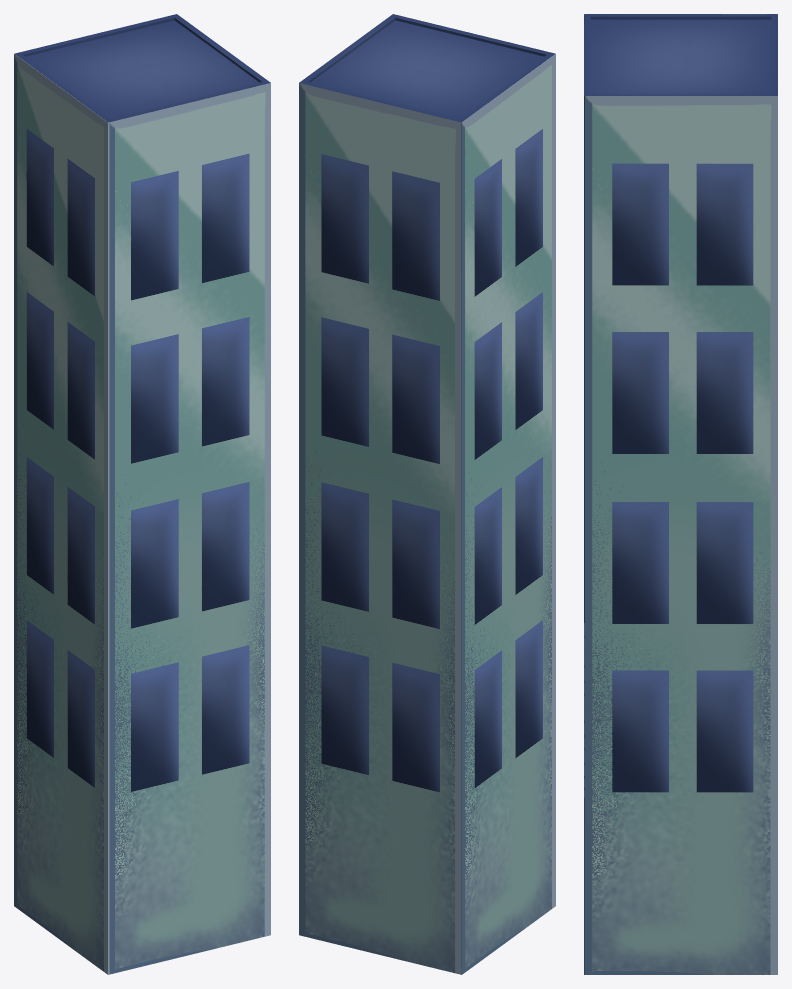
Rendered from 10x10Platform.fbx.
3 views of the same model, side by side, from view 1: azimuth 30°, elevation 25°; view 2: azimuth 150°, elevation 25°; view 3: azimuth 270°, elevation 25° (orthographic). The views are drawn at different scales.
Visible parts, largest first — view 1: 10x10 Building; view 2: 10x10 Building; view 3: 10x10 Building.
Part boxes in pixels (bbox=[...]): 10x10 Building: bbox=[14, 14, 270, 974]; 10x10 Building: bbox=[299, 14, 555, 974]; 10x10 Building: bbox=[584, 14, 777, 974].
Size of the model in its own units: 1000 by 5000 by 1000.
1 material, 1 textured.
